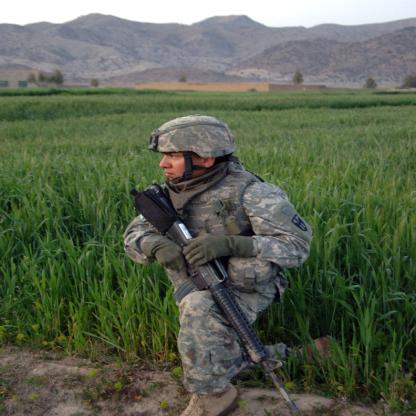Helmet: (152, 118, 240, 191)
